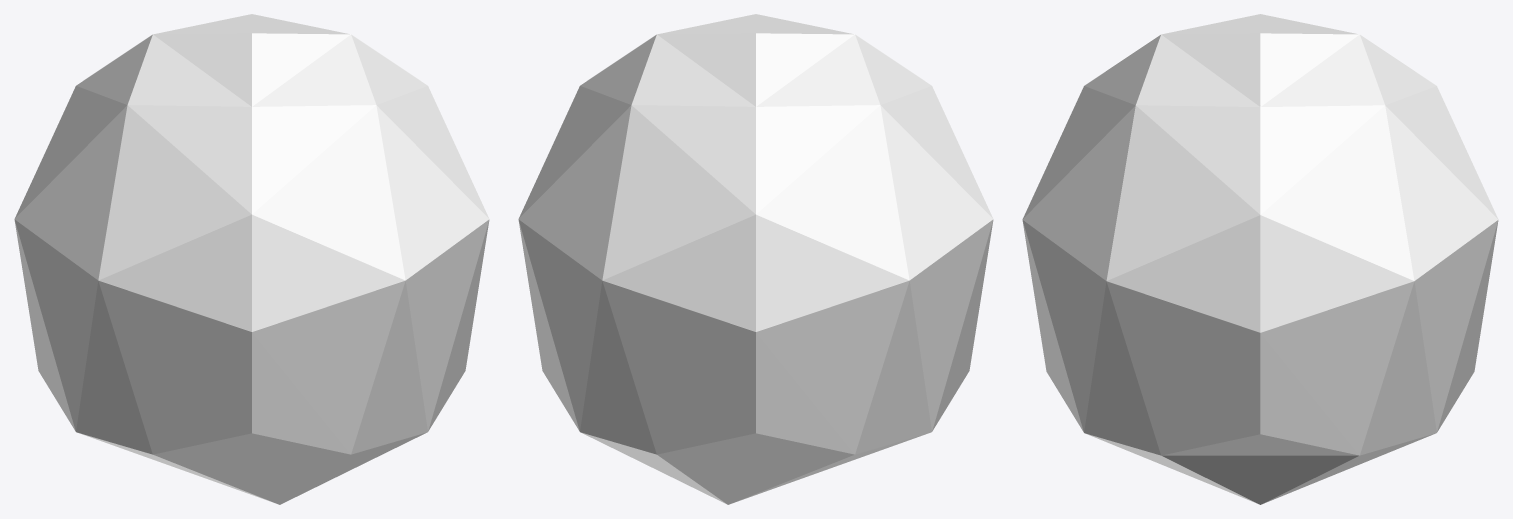
File: cloud_03.fbx
The picture shows the model from 3 angles, left to right: view 1: azimuth 30°, elevation 25°; view 2: azimuth 150°, elevation 25°; view 3: azimuth 270°, elevation 25°; orthographic projection.
Visible parts, largest first — view 1: cloud_03; view 2: cloud_03; view 3: cloud_03.
Boxes of the visible parts, x1,y1,x2,y2 form: cloud_03: [14, 14, 489, 504]; cloud_03: [518, 14, 993, 504]; cloud_03: [1022, 14, 1498, 504].
Bounding box in the file's own units: 160 × 163 × 160.
Materials: 1 (1 with a texture image).
